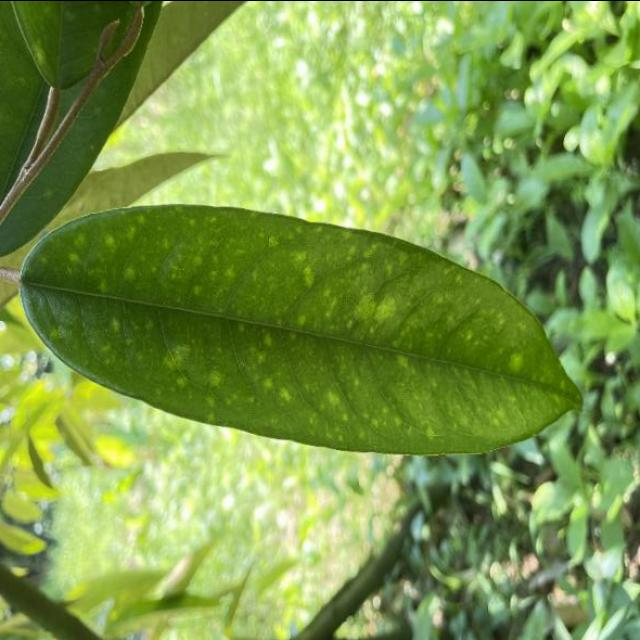Leaf Spot: (1, 179, 584, 472)
